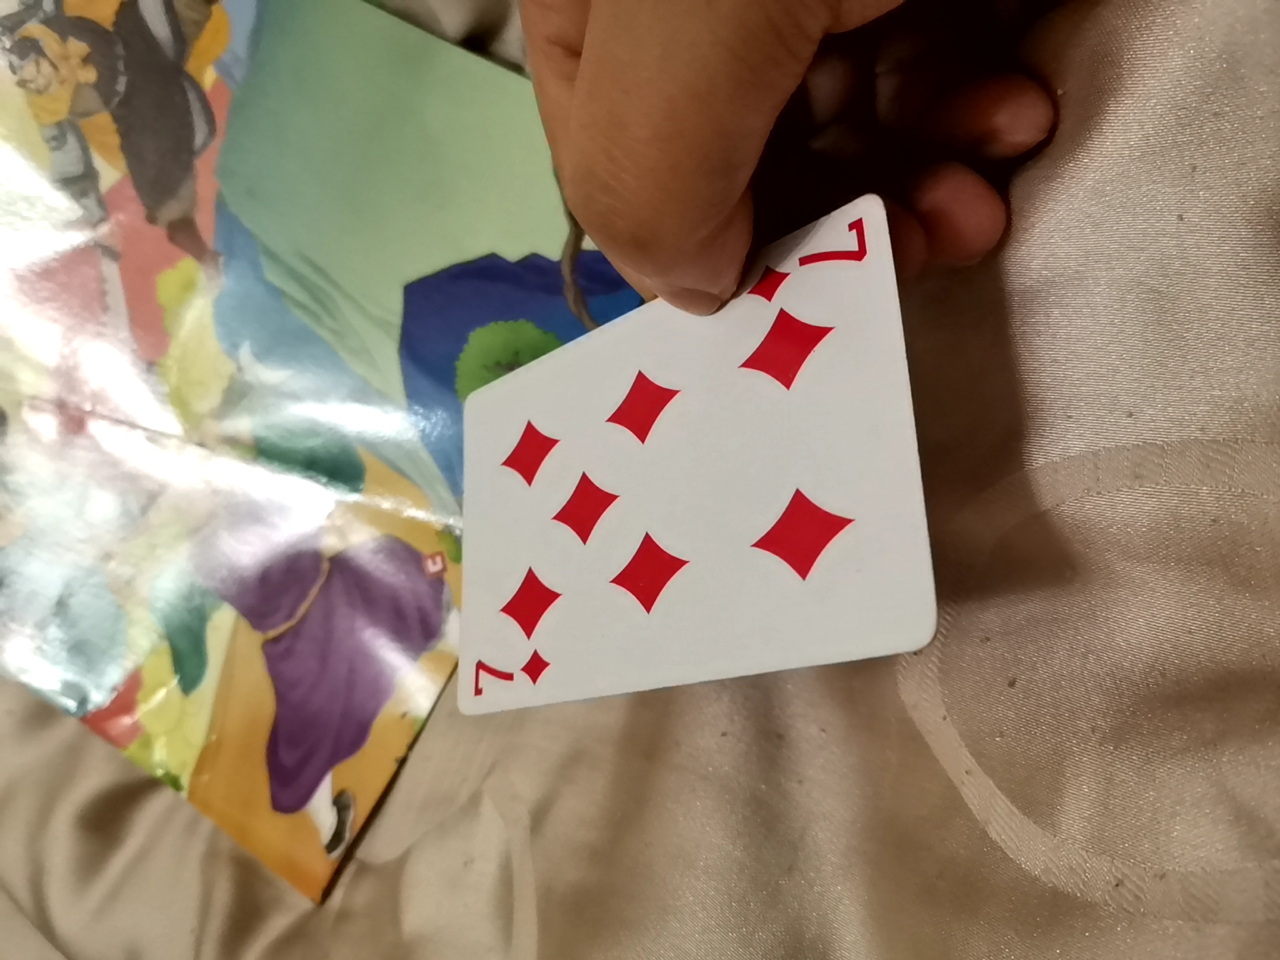fk 7: (418, 232, 963, 740)
